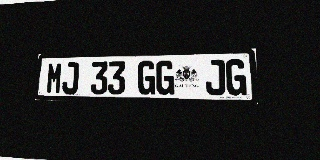3: (108, 61, 126, 95), (90, 61, 108, 94)
G: (225, 59, 247, 96), (137, 61, 156, 95), (156, 60, 174, 95)
J: (205, 59, 225, 95), (62, 62, 79, 94)
M: (46, 62, 63, 94)
